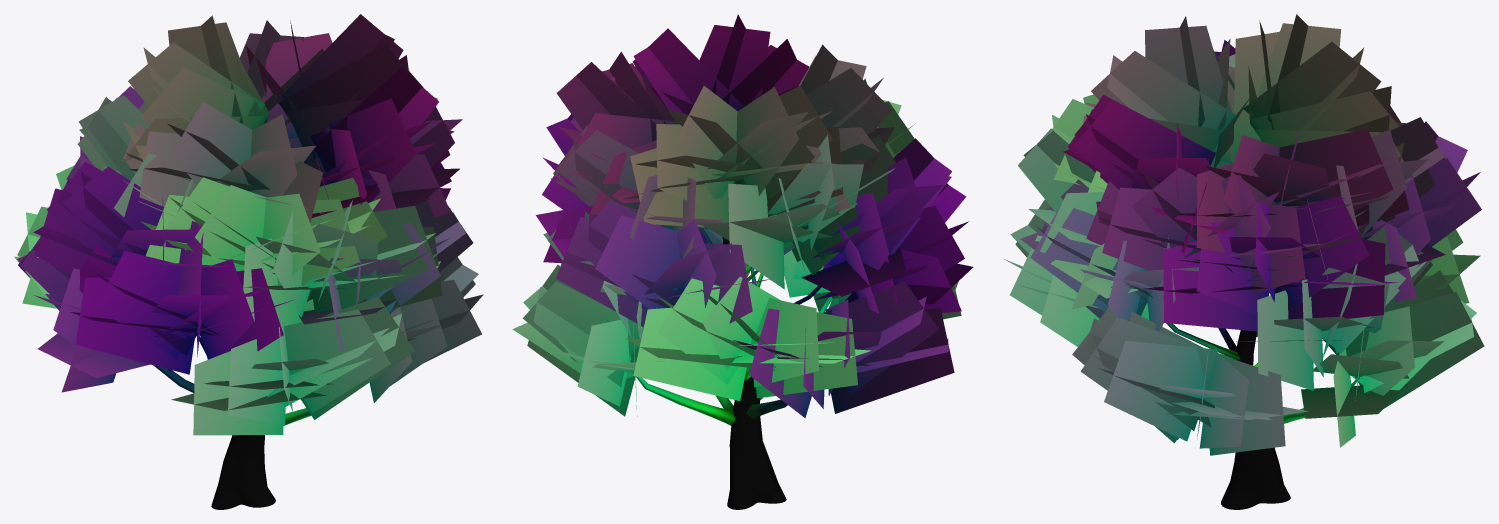
File: Tree_3_10.fbx
3 views of the same model, side by side, from view 1: azimuth 30°, elevation 25°; view 2: azimuth 150°, elevation 25°; view 3: azimuth 270°, elevation 25° (orthographic). The views are drawn at different scales.
Parts seen in each view (by area): view 1: _10; view 2: _10; view 3: _10.
Boxes of the visible parts, x1,y1,x2,y2 form: _10: (14, 14, 483, 509); _10: (512, 14, 973, 509); _10: (1004, 14, 1484, 509).
Size of the model in its own units: 1783 by 1846 by 1749.
